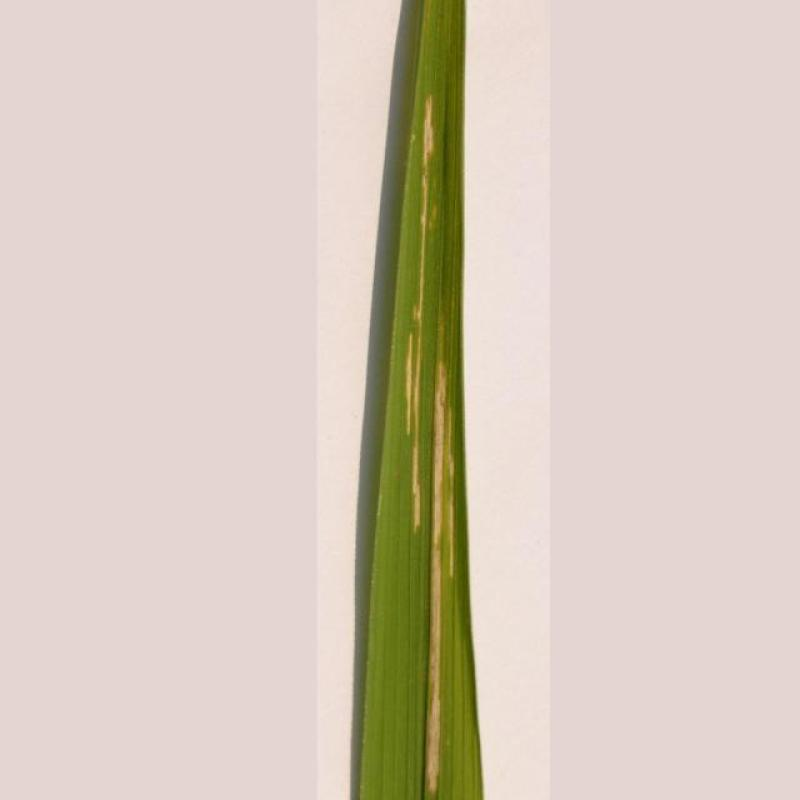Bacterial_Leaf_Blight: (389, 16, 482, 745)
